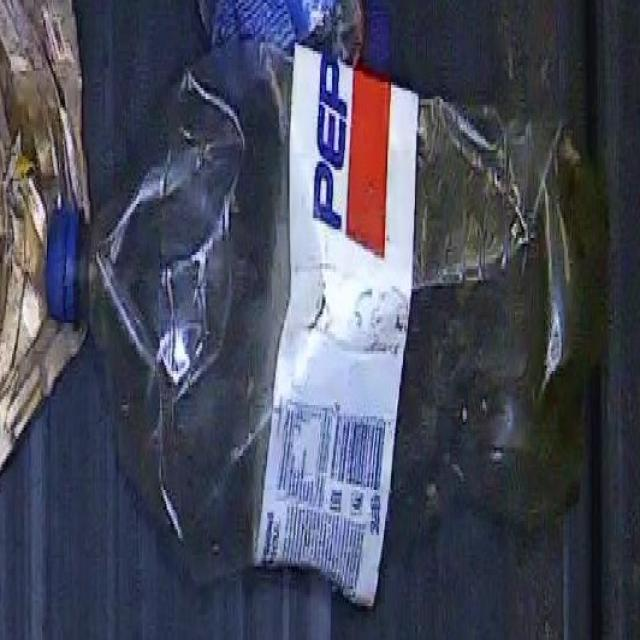litter: (46, 29, 600, 574)
